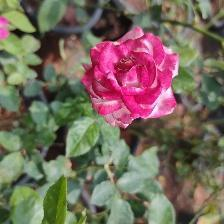rose: (81, 26, 183, 131)
